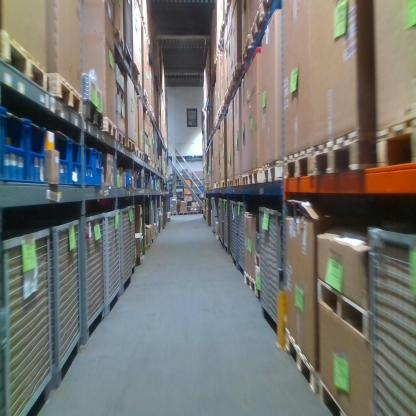pallet: (316, 274, 370, 342), (311, 129, 378, 180), (0, 24, 49, 91), (376, 114, 416, 174), (284, 327, 317, 392), (46, 70, 83, 119), (318, 377, 347, 416), (280, 149, 315, 181), (83, 101, 103, 130), (262, 159, 283, 184), (243, 268, 258, 296), (103, 117, 118, 141), (248, 165, 262, 187), (115, 24, 125, 52), (116, 129, 127, 148), (233, 60, 241, 80), (128, 139, 136, 154), (242, 171, 251, 184), (226, 176, 234, 188), (228, 82, 235, 95), (212, 181, 221, 190), (234, 176, 242, 184), (225, 90, 228, 106), (220, 107, 226, 115), (221, 181, 226, 188)
small_load_carrier: (0, 106, 29, 183), (27, 118, 47, 186), (51, 132, 71, 186), (70, 138, 82, 189), (82, 145, 95, 187), (93, 147, 105, 185), (142, 172, 150, 190)
stillage: (364, 221, 415, 416), (1, 224, 53, 415), (51, 215, 84, 391), (257, 203, 287, 328), (83, 210, 108, 347), (104, 204, 123, 319), (119, 202, 132, 299), (236, 200, 249, 275), (123, 0, 133, 70), (130, 204, 137, 283), (233, 196, 239, 268), (147, 199, 155, 242), (218, 195, 223, 249), (224, 195, 228, 256), (230, 199, 234, 258), (211, 196, 217, 235)
